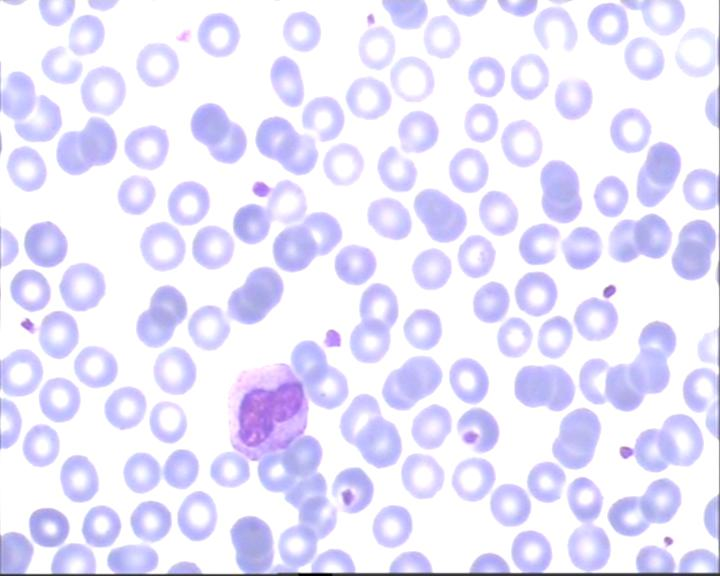mono: (217, 359, 313, 461)
